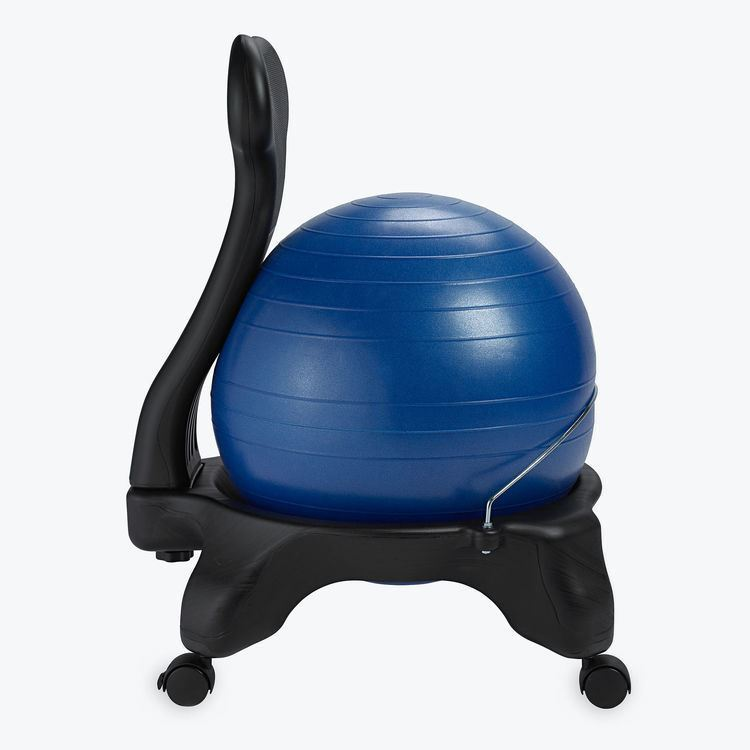blue ball: (210, 190, 600, 522)
